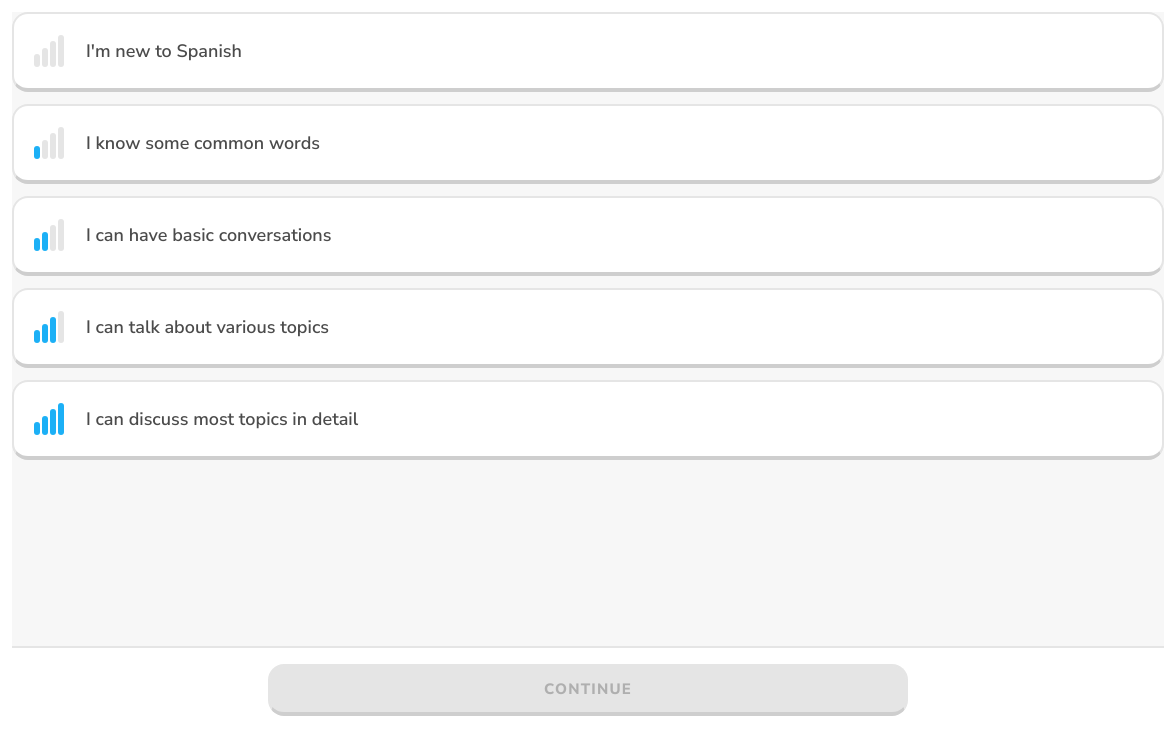
Test: ProficiencyPicker › Continue is disabled until something is chosen
Expected: the button "Continue" is disabled, left=268, top=664, right=908, bottom=716
What coordinates should you click on to do the following:
click the radio button labelled "I know some common words"
I would click on:
 (203, 143)
Its box is left=12, top=104, right=1164, bottom=184.
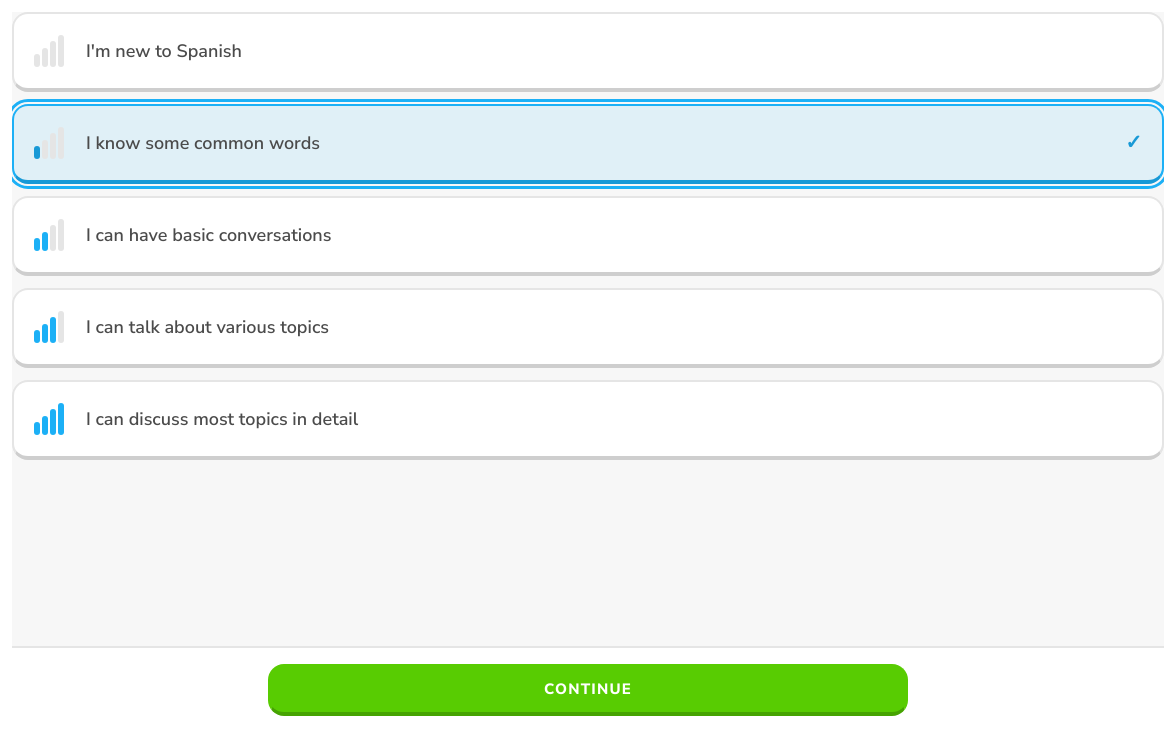
Expected: the button "Continue" is enabled, left=268, top=664, right=908, bottom=716
